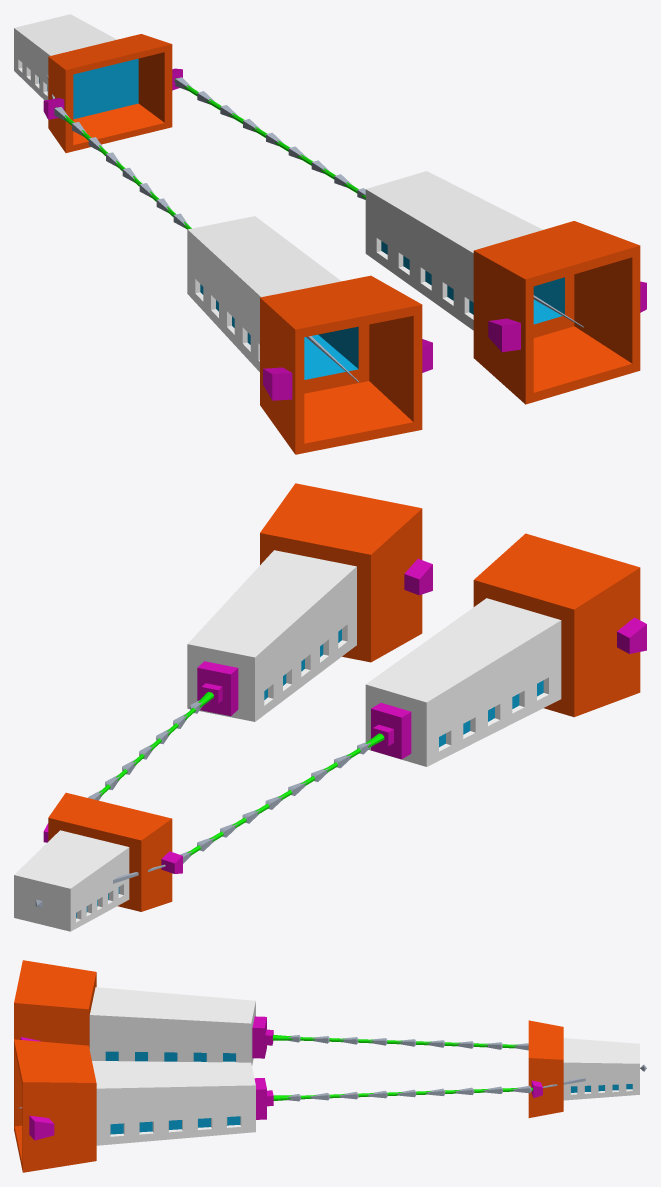
The model's file is Module square_max.obj.
3 views of the same model, one above another, from view 1: azimuth 30°, elevation 25°; view 2: azimuth 150°, elevation 25°; view 3: azimuth 270°, elevation 25° (orthographic). The views are drawn at different scales.
Parts seen in each view (by area): view 1: Module_square; view 2: Module_square; view 3: Module_square.
Boxes of the visible parts, x1=… form: Module_square: x1=14, y1=14, x2=646, y2=454; Module_square: x1=14, y1=483, x2=646, y2=931; Module_square: x1=14, y1=960, x2=639, y2=1172.
Size of the model in its own units: 218 by 69.6 by 440.
